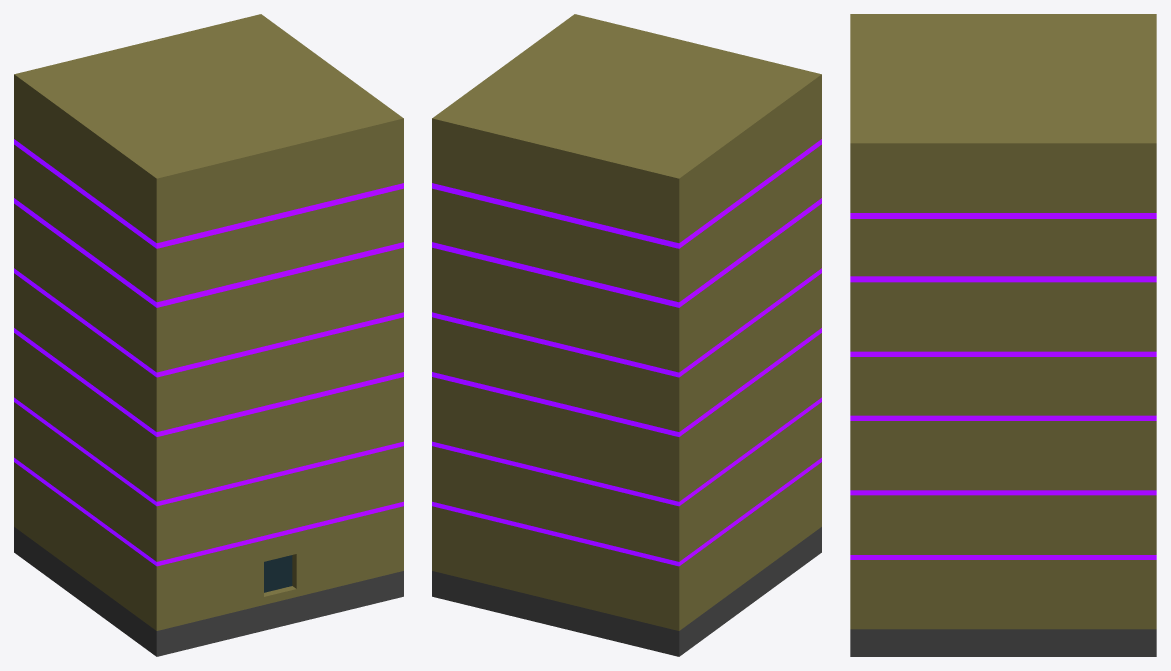
The model's file is AlienStructureResearchLab.dae.
3 renders of one model, left to right at view 1: azimuth 30°, elevation 25°; view 2: azimuth 150°, elevation 25°; view 3: azimuth 270°, elevation 25°, orthographic. The views are drawn at different scales.
Visible parts, largest first — view 1: Cube; view 2: Cube; view 3: Cube.
Boxes of the visible parts, <box> form: Cube: <box>14,14,403,656</box>; Cube: <box>432,14,821,656</box>; Cube: <box>850,14,1156,656</box>.
Size of the model in its own units: 4 by 4 by 7.4.
